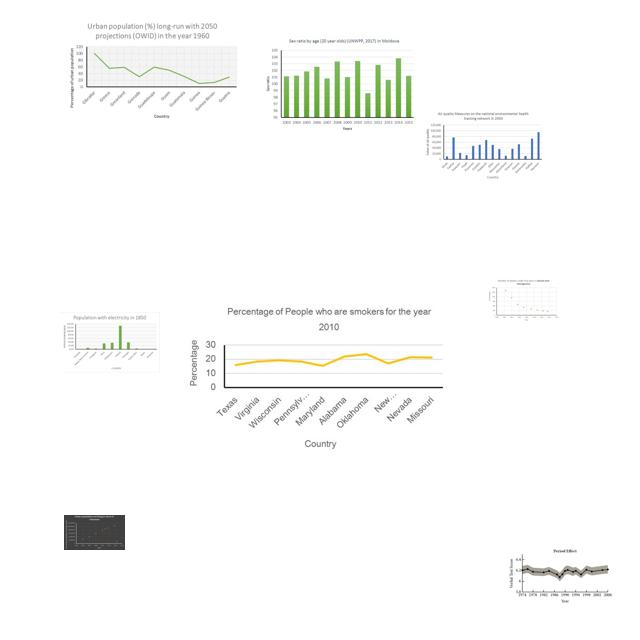Graph: (181, 299, 451, 454), (68, 20, 239, 122), (262, 36, 417, 133), (423, 110, 544, 182), (60, 312, 160, 373), (508, 548, 614, 604), (487, 278, 560, 323), (64, 515, 125, 550)
